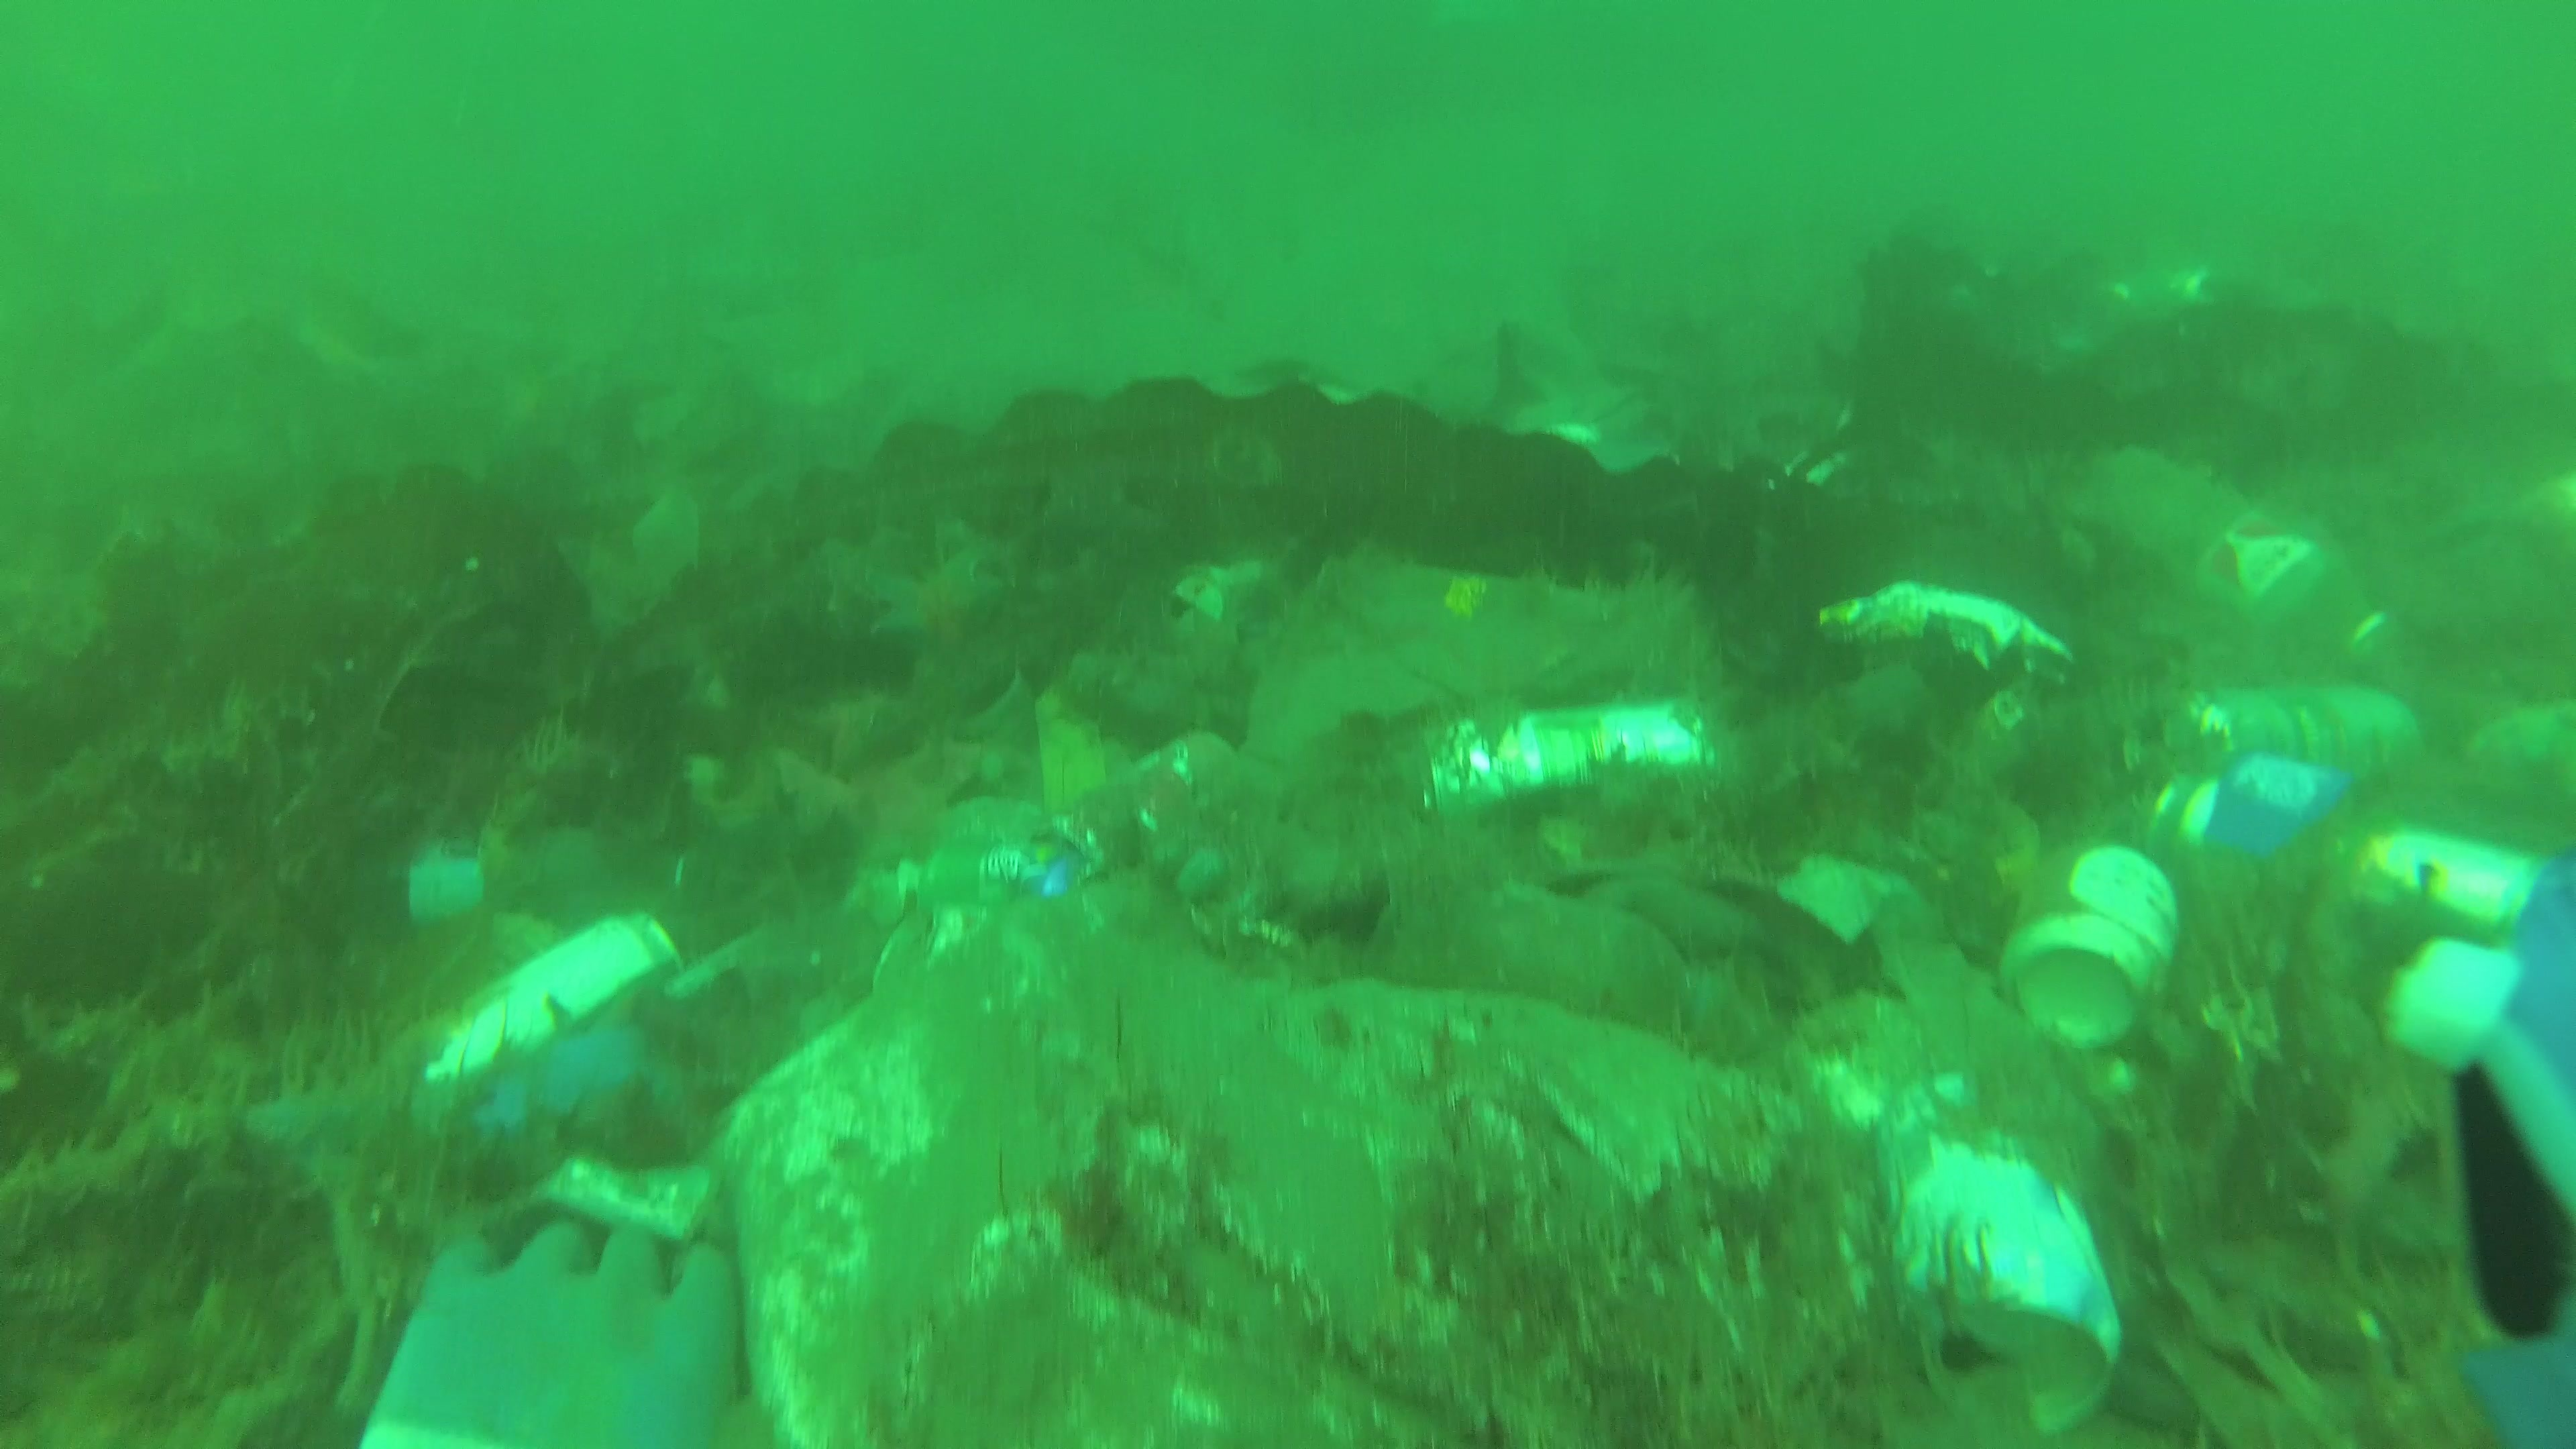holothurian: (0, 1118, 172, 1238), (1072, 612, 1240, 711)
starfish: (863, 548, 1016, 658)
